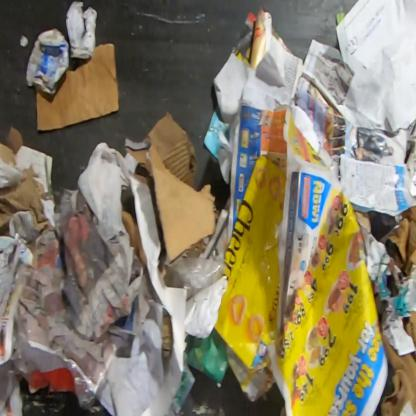cardboard: (214, 154, 287, 404), (123, 110, 218, 284), (35, 42, 120, 132), (171, 327, 230, 415), (0, 167, 50, 237), (24, 26, 70, 94), (380, 335, 415, 415), (384, 205, 415, 277), (64, 0, 98, 59), (122, 209, 147, 270), (0, 125, 25, 167), (353, 210, 372, 241), (162, 313, 174, 360)
soft_plastic: (165, 253, 225, 300), (67, 358, 110, 412), (0, 360, 15, 416)
